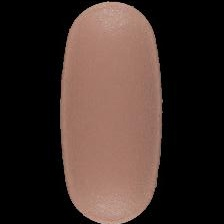54868-3955: (0, 0, 224, 224)
